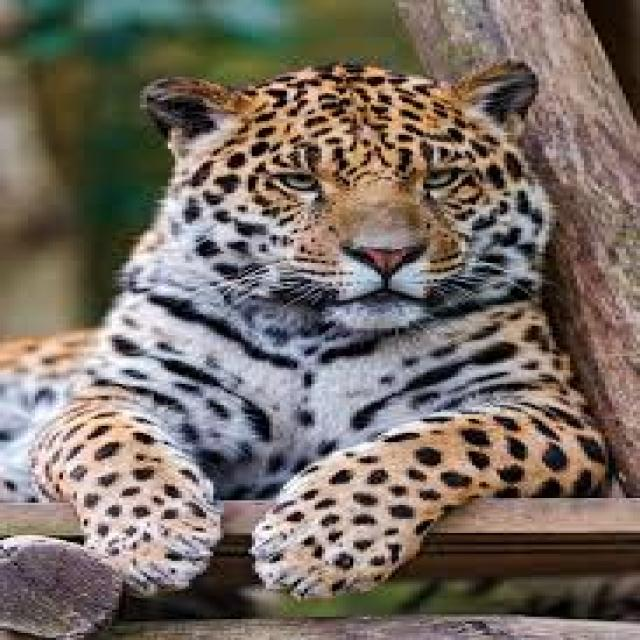Jaguar: (18, 60, 608, 589)
